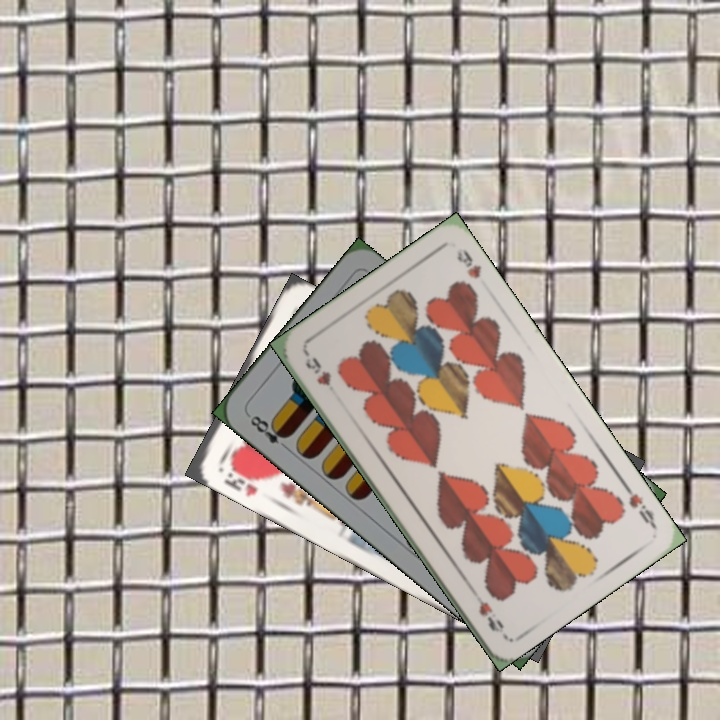E8: (243, 409, 292, 453)
H9: (619, 479, 659, 531), (301, 347, 334, 389)
HK: (219, 460, 268, 499)
